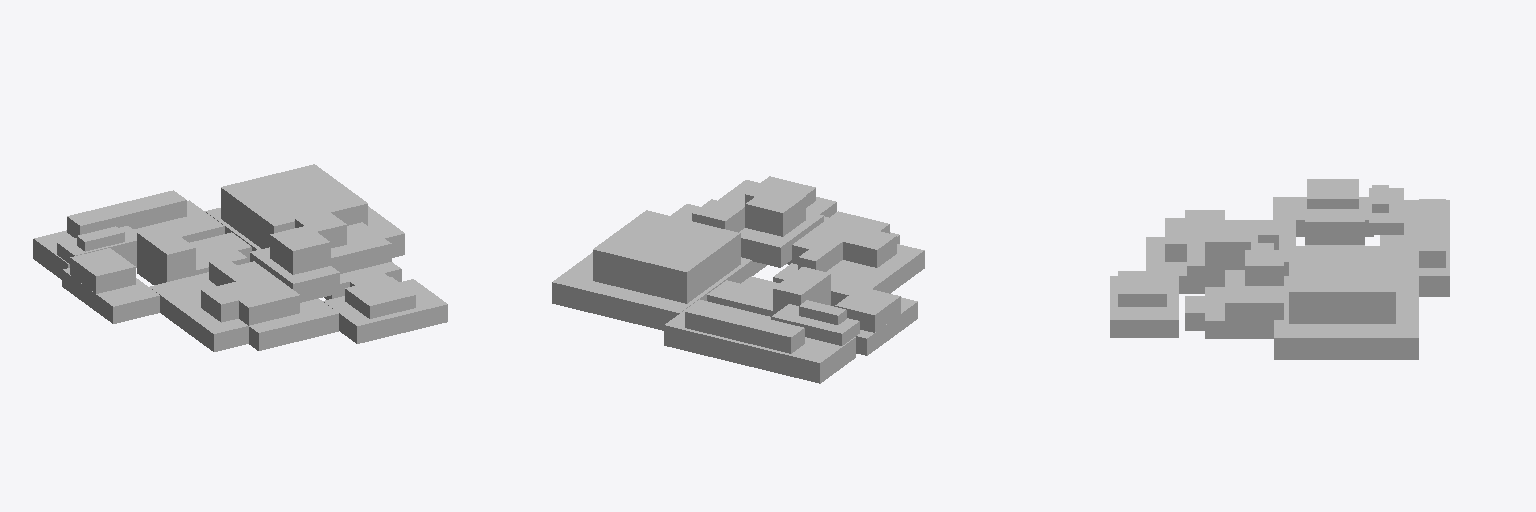
File: rock_piles_large_1.obj
3 renders of one model, left to right at view 1: azimuth 30°, elevation 25°; view 2: azimuth 150°, elevation 25°; view 3: azimuth 270°, elevation 25°, orthographic.
Visible parts, largest first — view 1: Sphere.000_Sphere.004; view 2: Sphere.000_Sphere.004; view 3: Sphere.000_Sphere.004.
Part boxes in pixels (bbox=[...]): Sphere.000_Sphere.004: bbox=[33, 164, 447, 351]; Sphere.000_Sphere.004: bbox=[552, 176, 924, 383]; Sphere.000_Sphere.004: bbox=[1110, 179, 1449, 359].
Size of the model in its own units: 1.06 by 0.223 by 1.07.